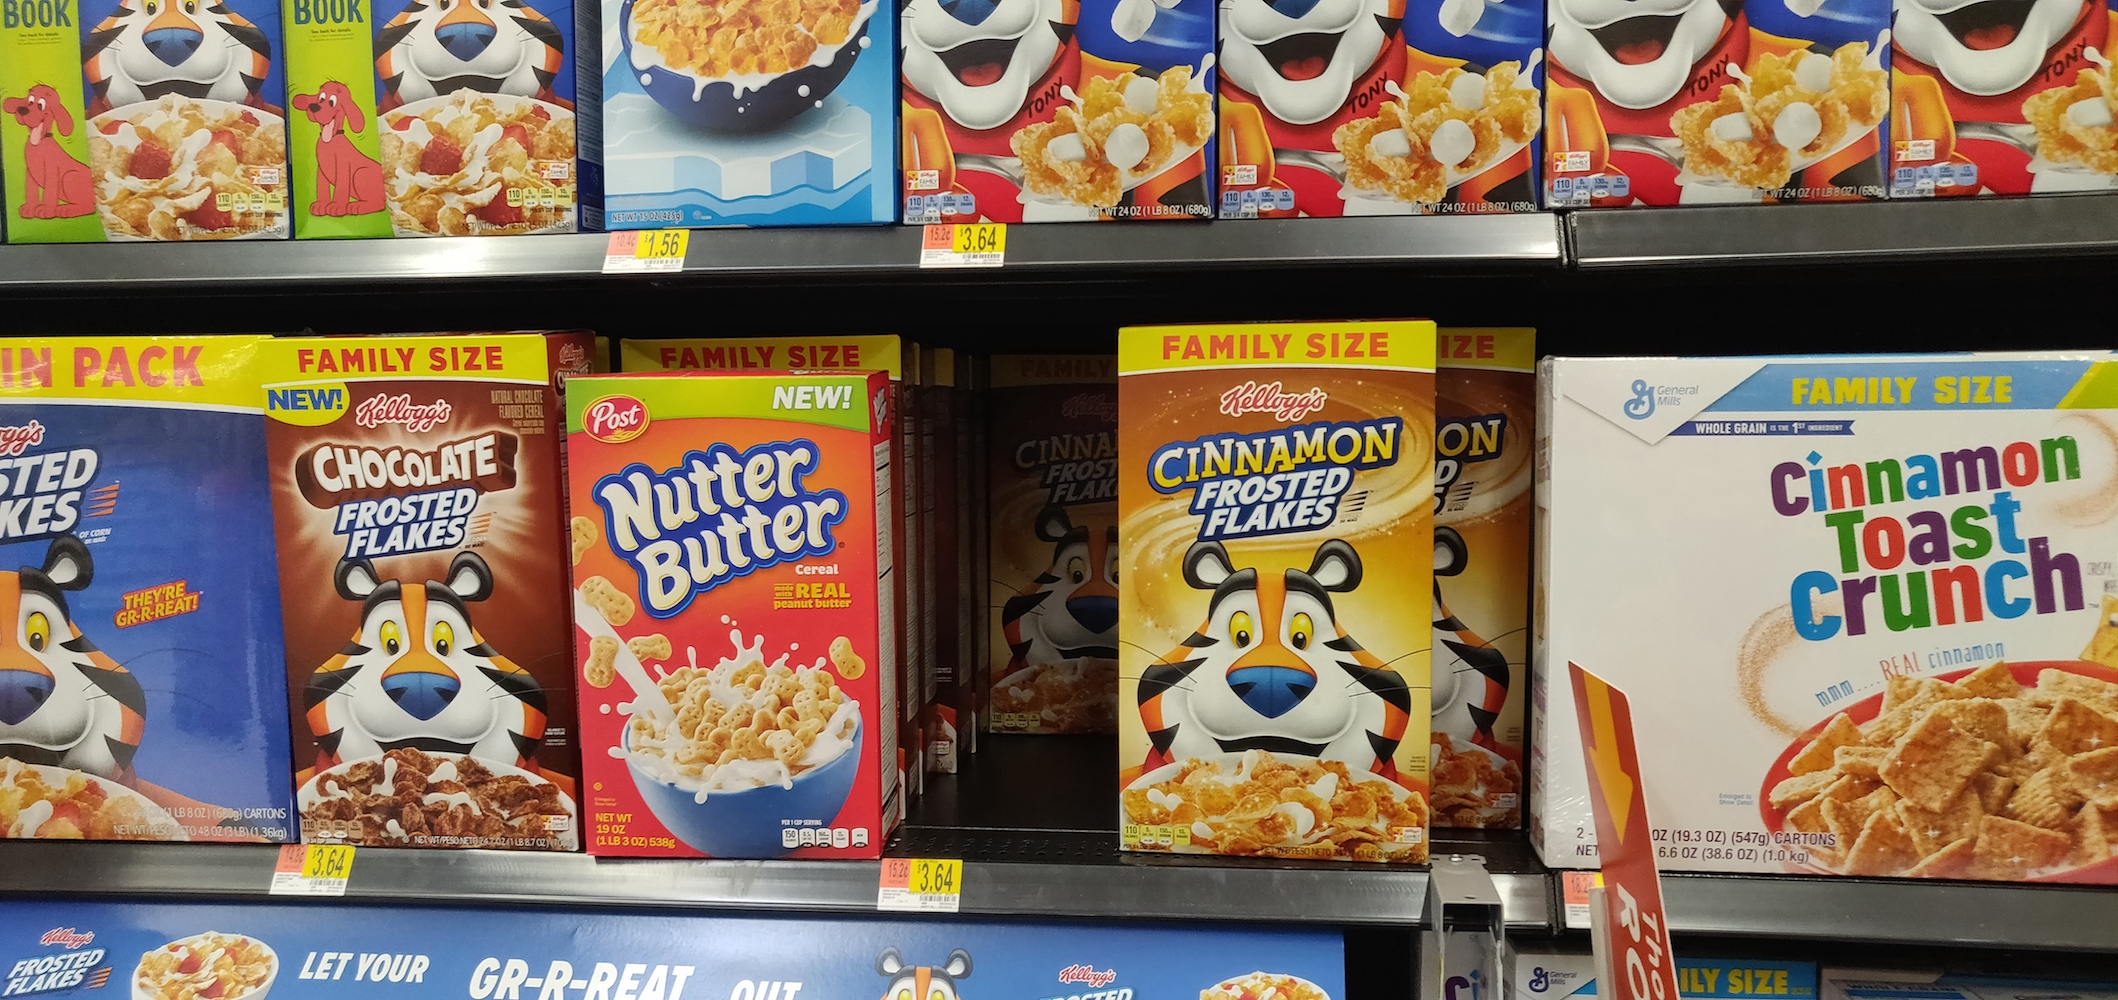Nutter Butter-565717511: (571, 388, 879, 857)
